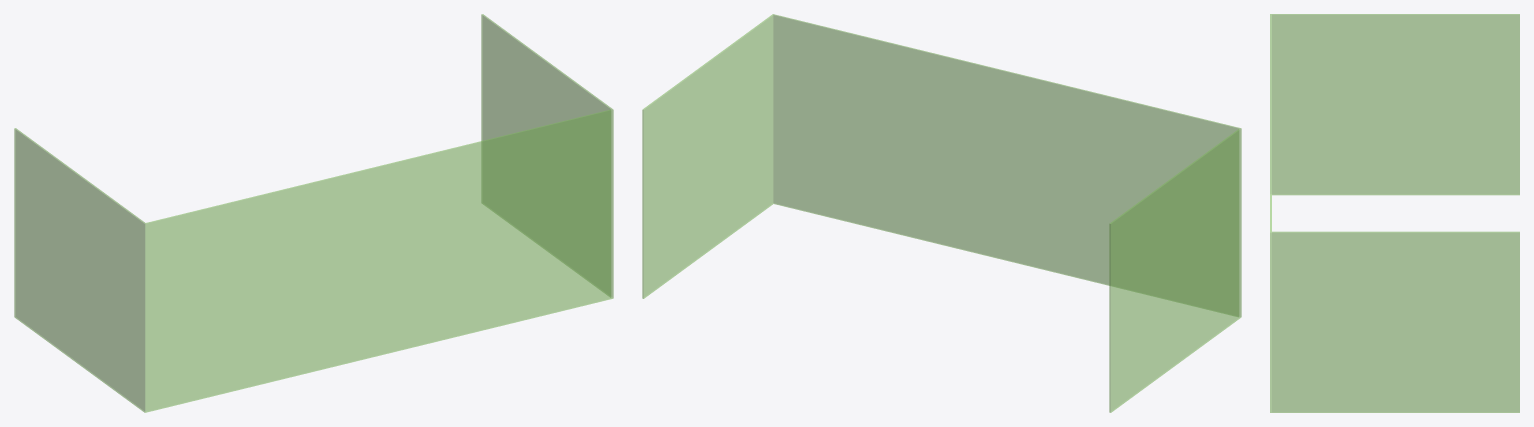
3 views of the same model, side by side, from view 1: azimuth 30°, elevation 25°; view 2: azimuth 150°, elevation 25°; view 3: azimuth 270°, elevation 25° (orthographic). The views are drawn at different scales.
Visible parts, largest first — view 1: id2; view 2: id2; view 3: id2.
Boxes of the visible parts, x1,y1,x2,y2 form: id2: [14, 14, 613, 412]; id2: [642, 14, 1241, 412]; id2: [1270, 14, 1519, 412].
Size of the model in its own units: 0.9398 by 0.3619 by 0.454.
